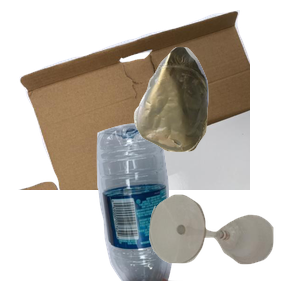cardboard: (16, 10, 256, 190)
glass: (147, 192, 300, 300)
plastic: (94, 120, 267, 300)
trash: (131, 44, 300, 189)
